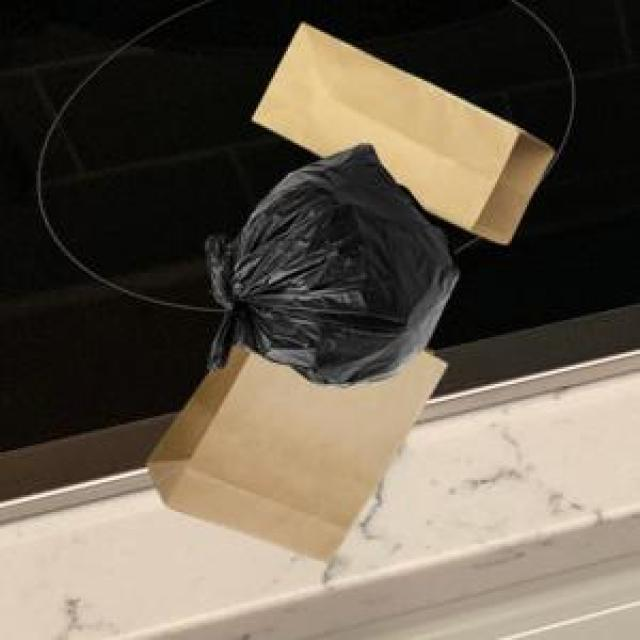miscellaneous trash: (201, 141, 454, 384)
paper: (248, 19, 550, 239), (145, 341, 442, 557)
